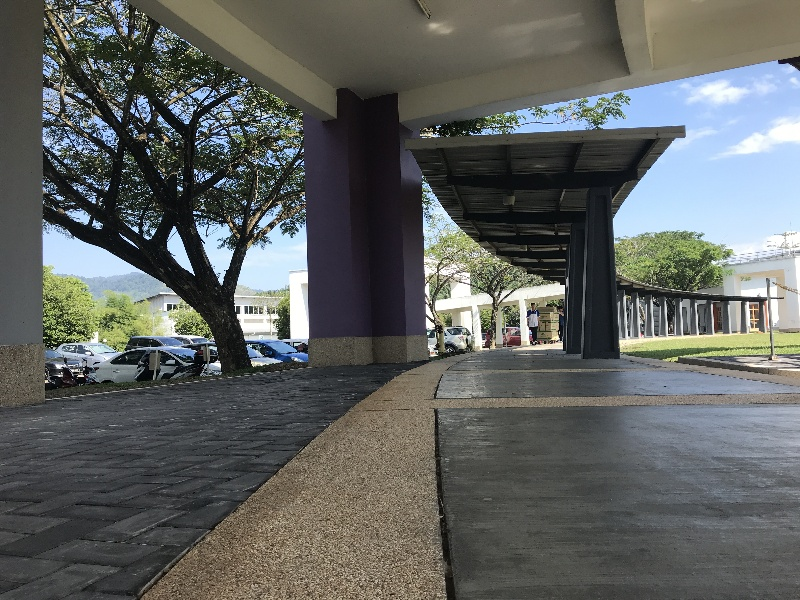Block D Pillar 5: (7, 6, 800, 545)
pillar: (287, 78, 435, 382), (1, 1, 66, 420), (571, 184, 628, 372)
